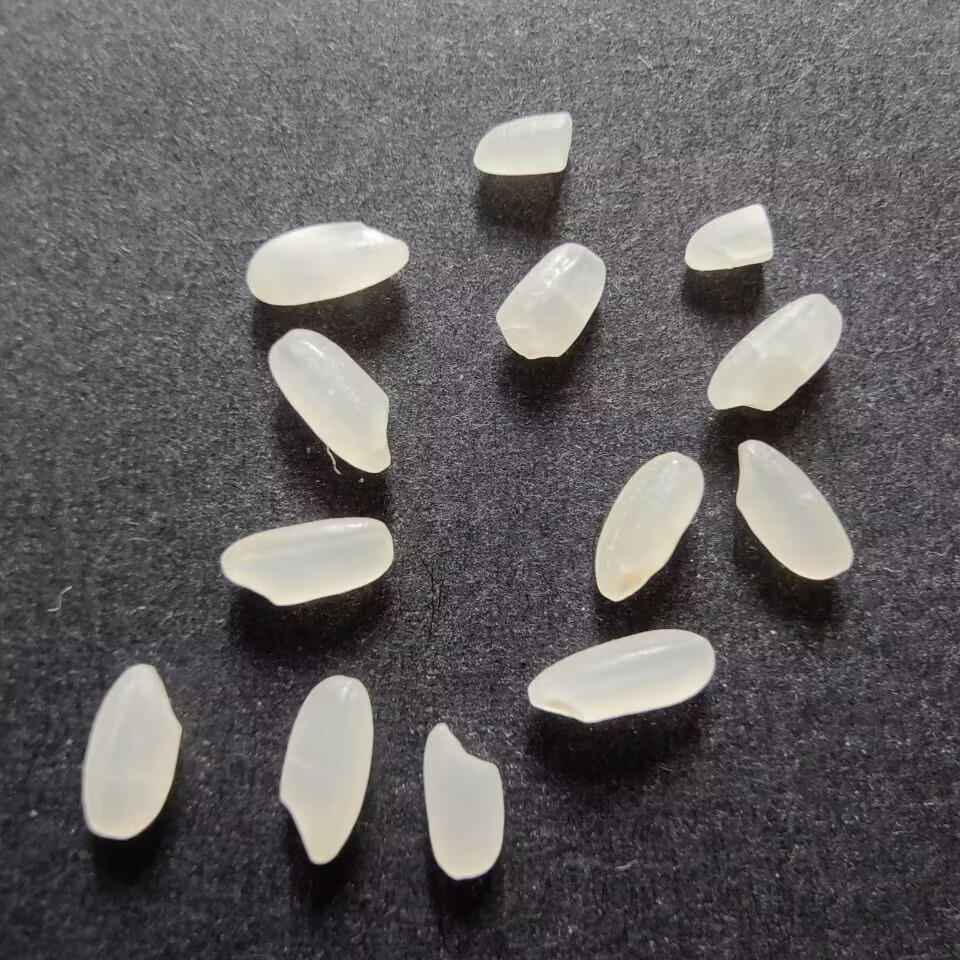broken: (497, 239, 609, 362), (470, 107, 577, 180), (679, 201, 778, 276)
rice: (519, 624, 720, 727), (263, 327, 397, 475), (82, 660, 185, 844), (274, 675, 373, 865), (732, 439, 857, 586), (705, 289, 848, 417), (592, 451, 707, 603), (220, 511, 397, 609), (245, 217, 411, 304), (420, 720, 507, 883)
